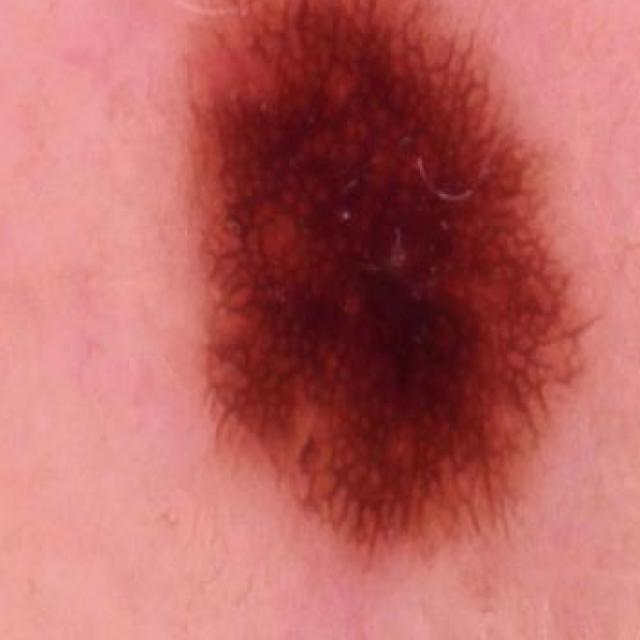NV: (182, 0, 625, 588)
